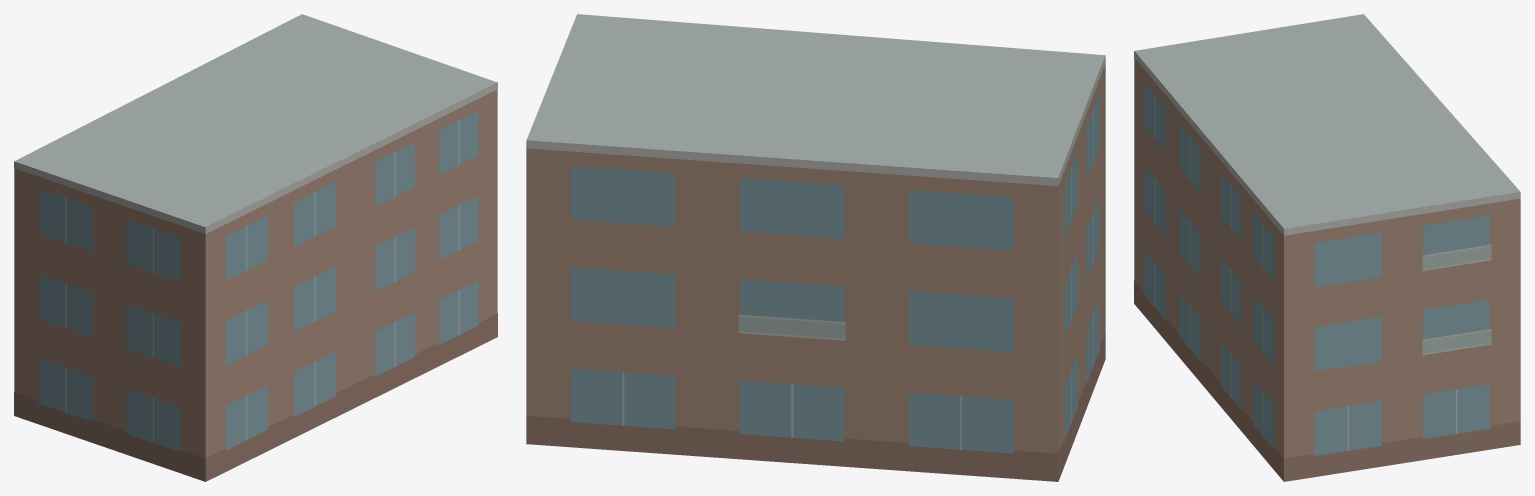
The model's file is survey-upis-32702939.glb.
3 views of the same model, side by side, from view 1: azimuth 30°, elevation 25°; view 2: azimuth 150°, elevation 25°; view 3: azimuth 270°, elevation 25° (orthographic). The views are drawn at different scales.
Visible parts, largest first — view 1: survey-upis-32702939.tmp; view 2: survey-upis-32702939.tmp; view 3: survey-upis-32702939.tmp.
Part boxes in pixels (x1,y1,x2,y2): survey-upis-32702939.tmp: [14, 14, 497, 481]; survey-upis-32702939.tmp: [526, 14, 1105, 481]; survey-upis-32702939.tmp: [1134, 14, 1520, 481].
Bounding box in the file's own units: 16.69 × 9.15 × 12.68.
